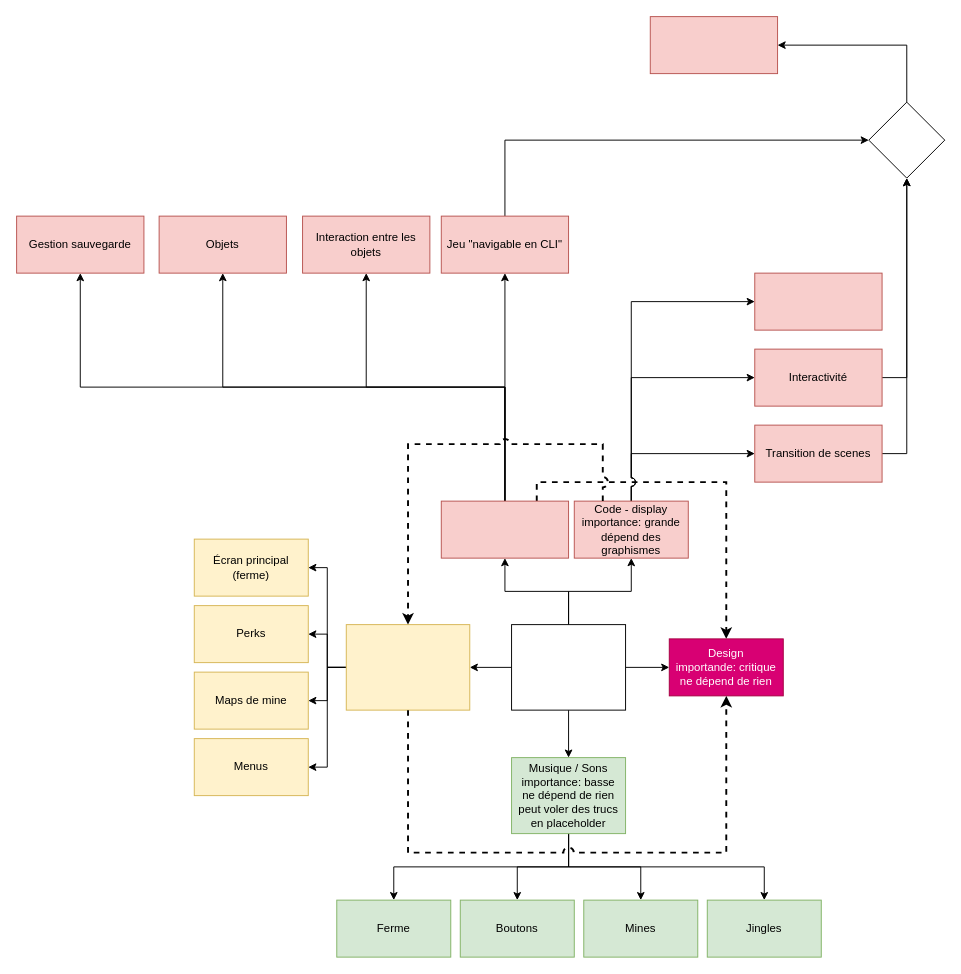
Some shapes in this 961 by 974 pixel diagram are drawn without their labels. Each missing label, with the centre of its shape:
"4 Pôles: Graphique Musique Code Design" belongs at pixel 568 667.
"Animations" belongs at pixel 818 301.
"Code - moteur logique importance: grande dépend du design" belongs at pixel 504 529.
"Graphique Importance: moyenne dépend du design peut utiliser des placeholders" belongs at pixel 407 667.
"Jeu navigable en graphique" belongs at pixel 713 45.
